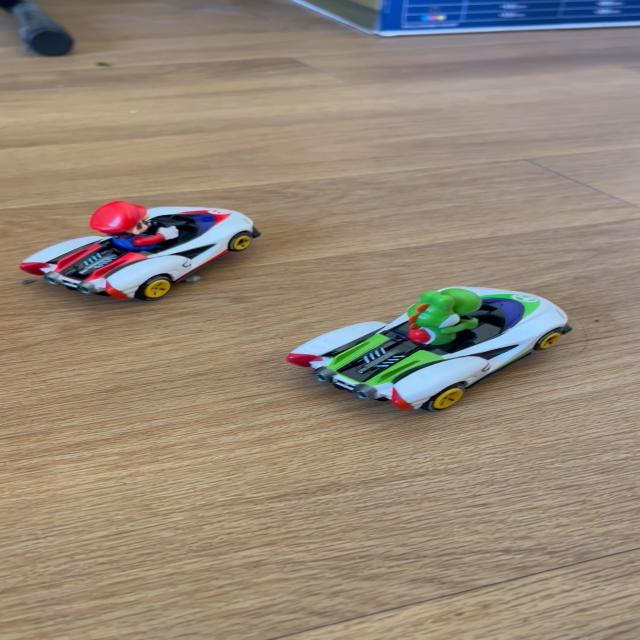mario: (11, 194, 275, 307)
yoshi: (273, 277, 582, 421)
